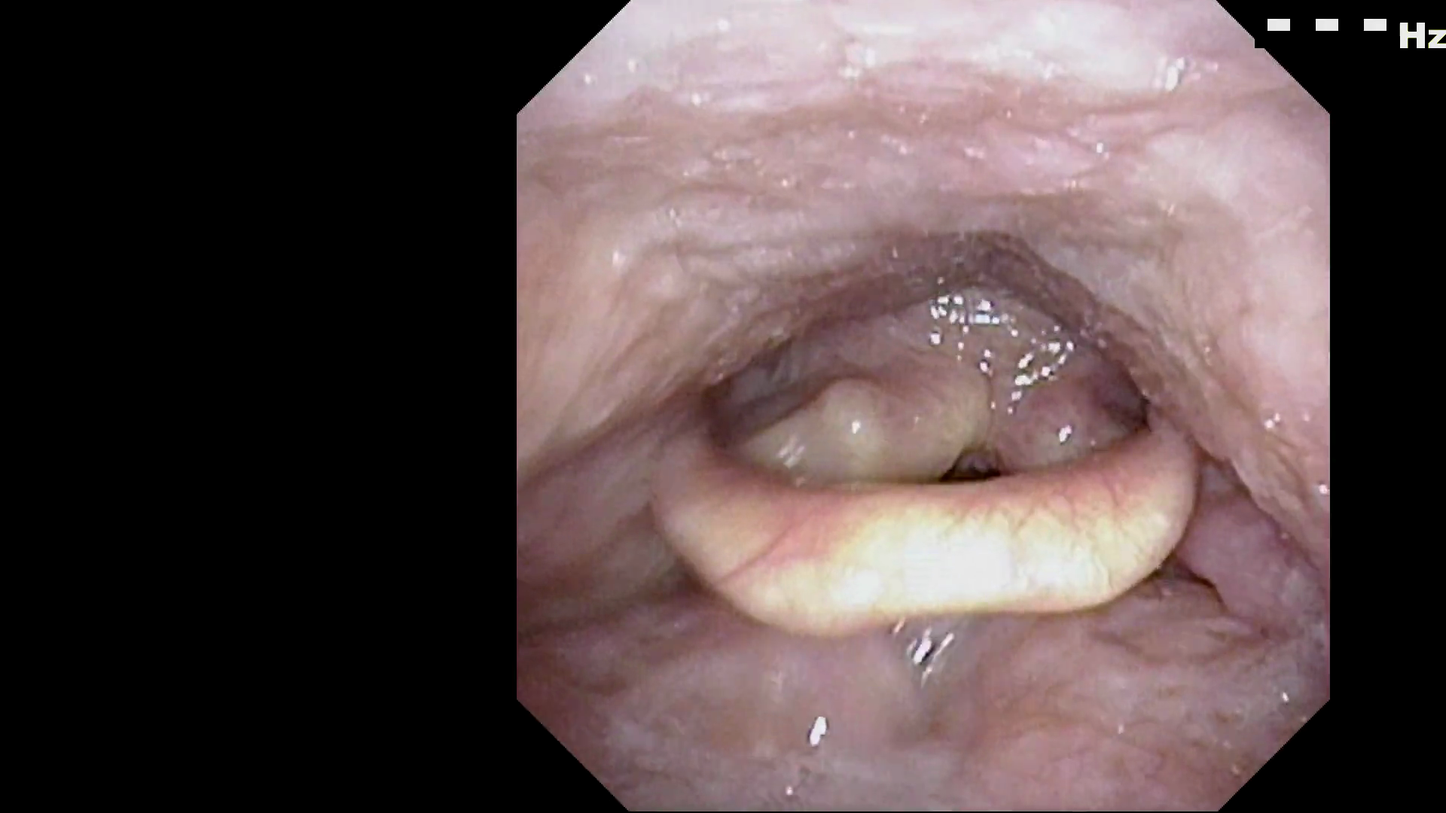epiglottis: (651, 399, 1219, 661)
trachea: (935, 433, 1016, 520)
